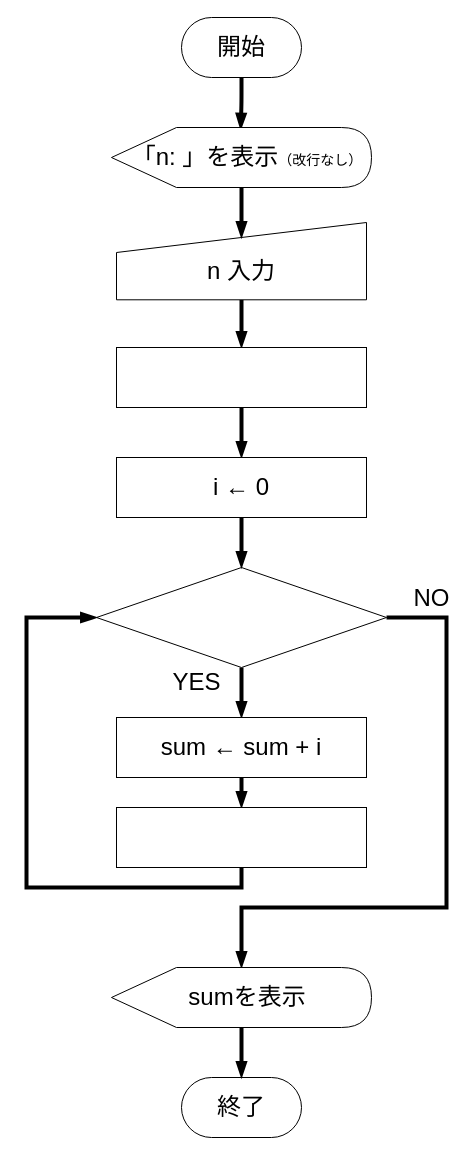
Image size: 473x1155. Some labels were removed from this diagram. The centre of each missing label's shape, as x and y in pixels:
i < n: point 241,617
i ← i + 1: point 241,837
sum ← 0: point 241,377
